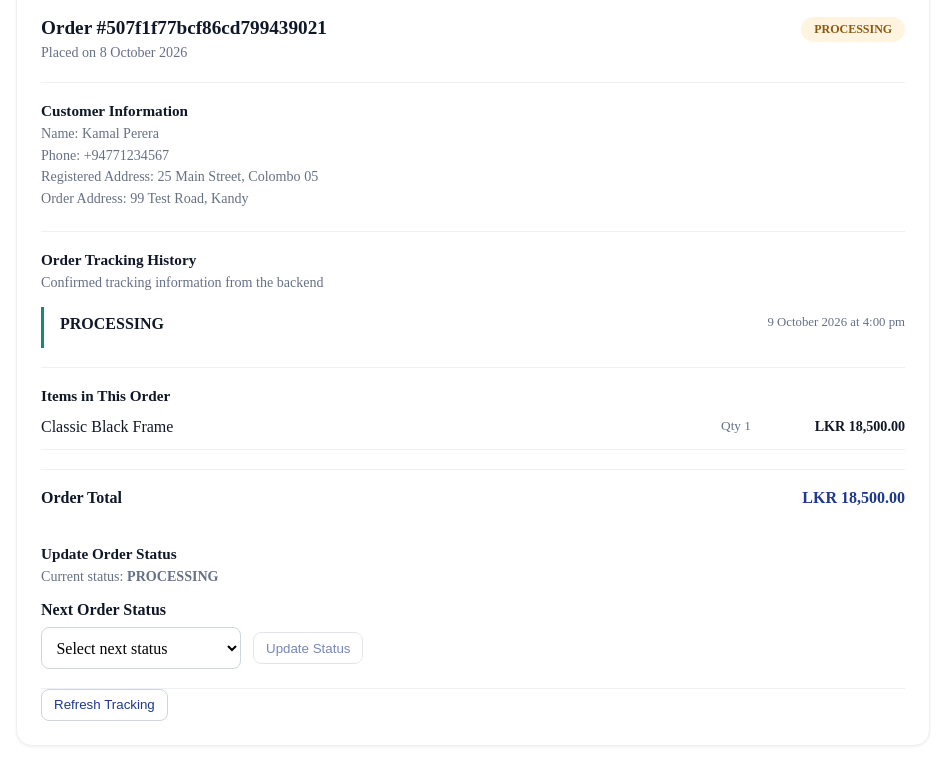
StaffOrderDetailsPage › replaces tracking history using the backend-confirmed update response
(page scrolled)
Expected: the text "PROCESSING" in the row of "507f1f77bcf86cd799439021" is shown, [814,22,892,36]
Step 1. Select "READY FOR PICKUP" in the dropdown labelled "Next Order Status" → coordinates (141, 648), box [41,627,241,669]
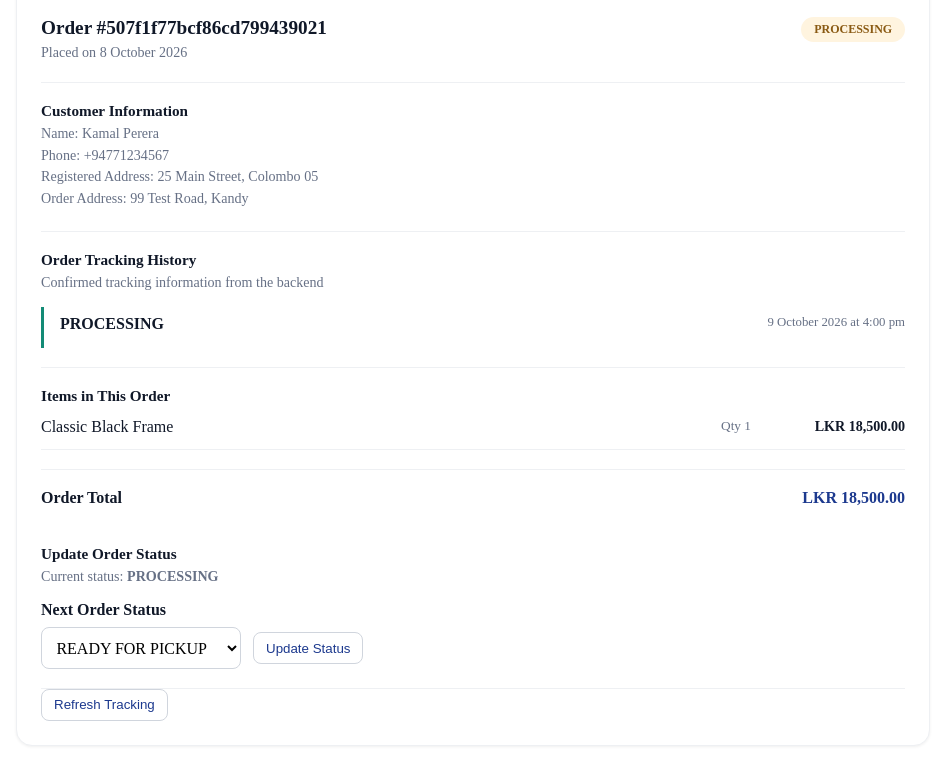
Step 2. Click the button "Update Status" → coordinates (308, 648), box [253,632,364,664]
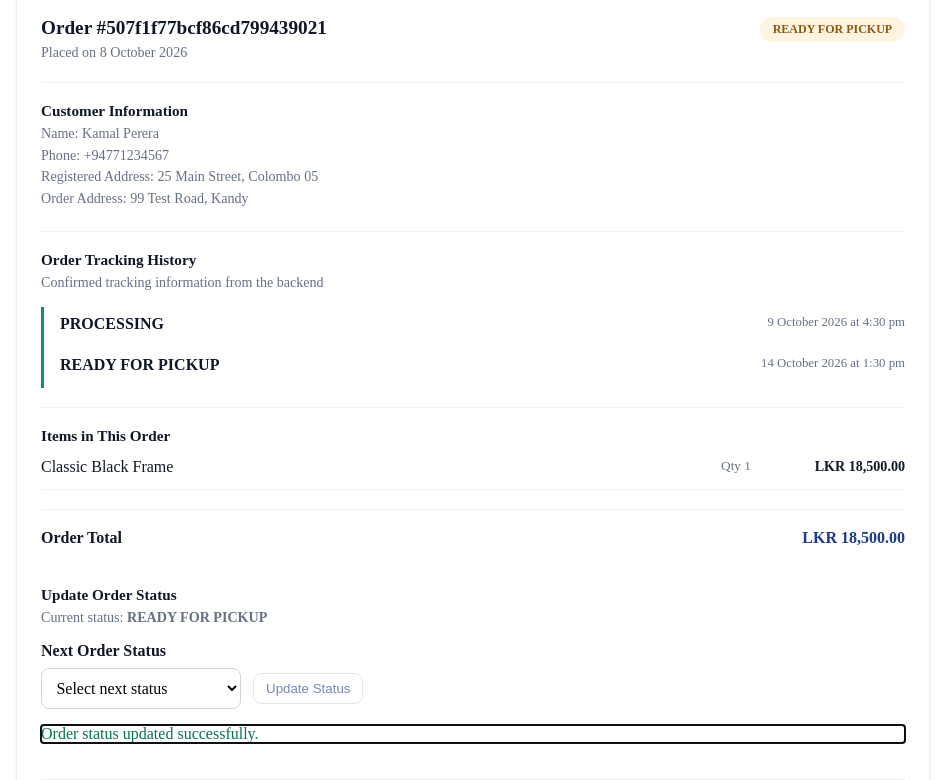
Expected: the list item "PROCESSING 9 October 2026 at 4:30 pm" is shown, [41,307,905,348]
Result: the text "READY FOR PICKUP" in the row of "507f1f77bcf86cd799439021" is shown at [773,22,892,36]
Result: the list item "READY FOR PICKUP 14 October 2026 at 1:30 pm" is shown at [41,348,905,388]
